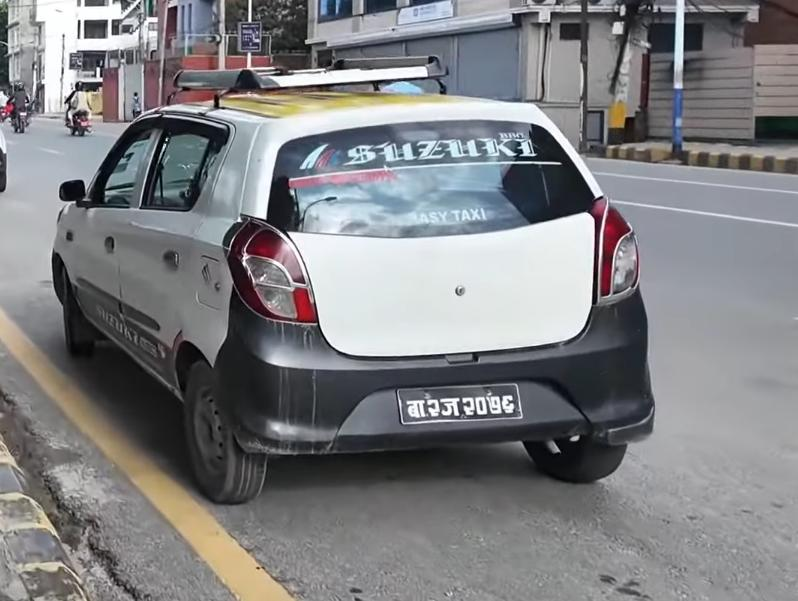bike: (61, 95, 94, 138), (9, 98, 35, 137)
taxi: (45, 70, 668, 519)
